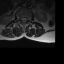CCS_normal: (23, 15, 25, 24)
LFS_normal: (27, 16, 28, 21)
LLS_normal: (25, 15, 26, 23)
RFS_normal: (19, 14, 21, 21)
RLS_normal: (21, 15, 23, 23)
